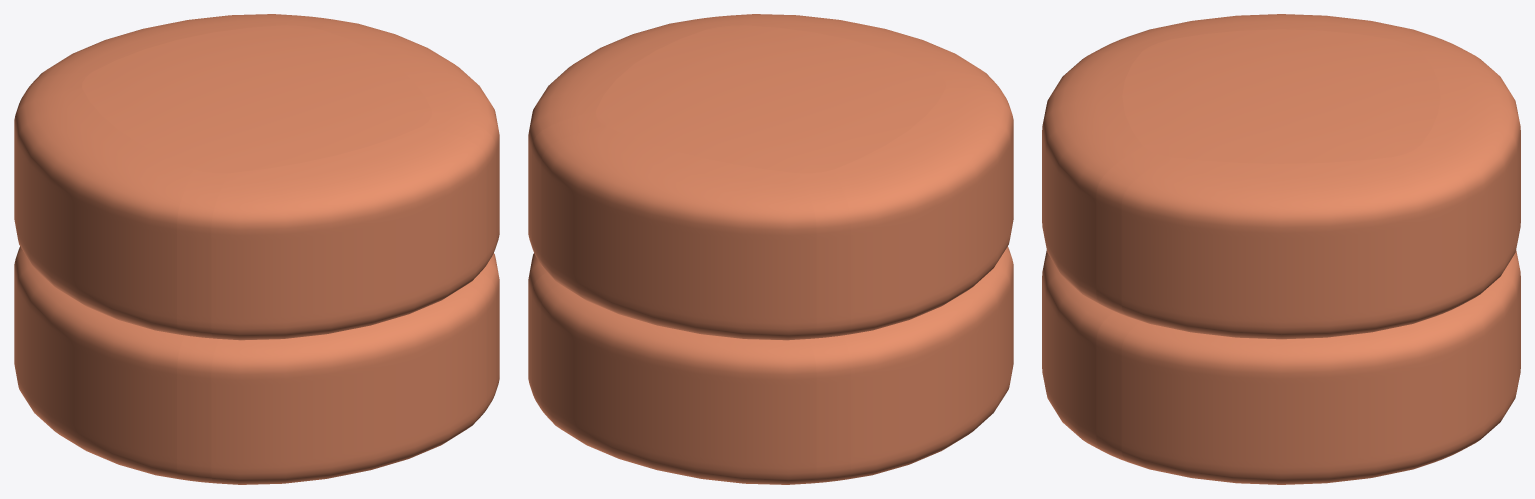
Rendered from lolo.glb.
3 views of the same model, side by side, from view 1: azimuth 30°, elevation 25°; view 2: azimuth 150°, elevation 25°; view 3: azimuth 270°, elevation 25° (orthographic).
Visible parts, largest first — view 1: Cube.007; view 2: Cube.007; view 3: Cube.007.
Boxes of the visible parts, x1,y1,x2,y2 form: Cube.007: (14,14,499,484); Cube.007: (528,14,1013,484); Cube.007: (1042,14,1520,484).
Bounding box in the file's own units: 3.8 × 2.77 × 3.8.
